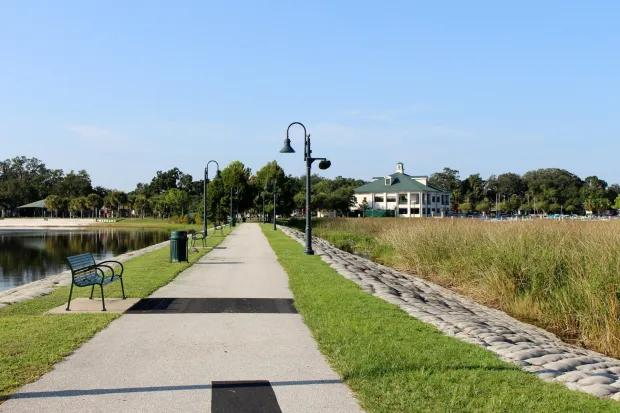overgrown grass: (316, 219, 619, 358)
